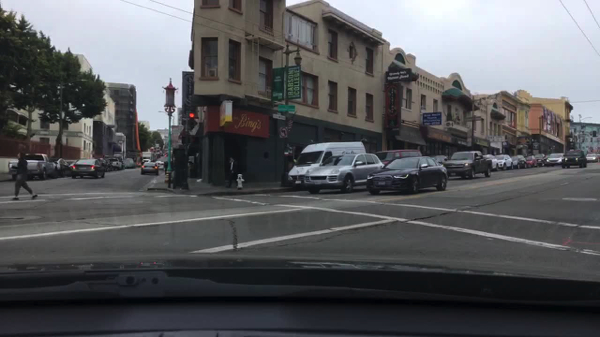car: (303, 153, 386, 194), (365, 156, 446, 192), (69, 159, 104, 179), (562, 151, 587, 168), (51, 157, 69, 176), (140, 162, 158, 176), (497, 155, 513, 169), (547, 153, 564, 165), (486, 155, 498, 171), (513, 156, 527, 169), (431, 155, 447, 165), (110, 158, 121, 170), (536, 153, 546, 165), (100, 160, 109, 171), (117, 158, 125, 168), (528, 157, 536, 167), (106, 160, 113, 171), (586, 154, 597, 161), (124, 160, 134, 167), (157, 160, 164, 169), (154, 154, 158, 159)
person: (8, 153, 38, 201), (226, 156, 238, 188)
traffic light: (189, 112, 195, 130)
traffic sign: (278, 104, 294, 112), (280, 126, 288, 138), (272, 114, 286, 120)
truck: (289, 141, 365, 193), (8, 153, 58, 181), (444, 152, 493, 180), (375, 149, 423, 167), (141, 153, 154, 164)
